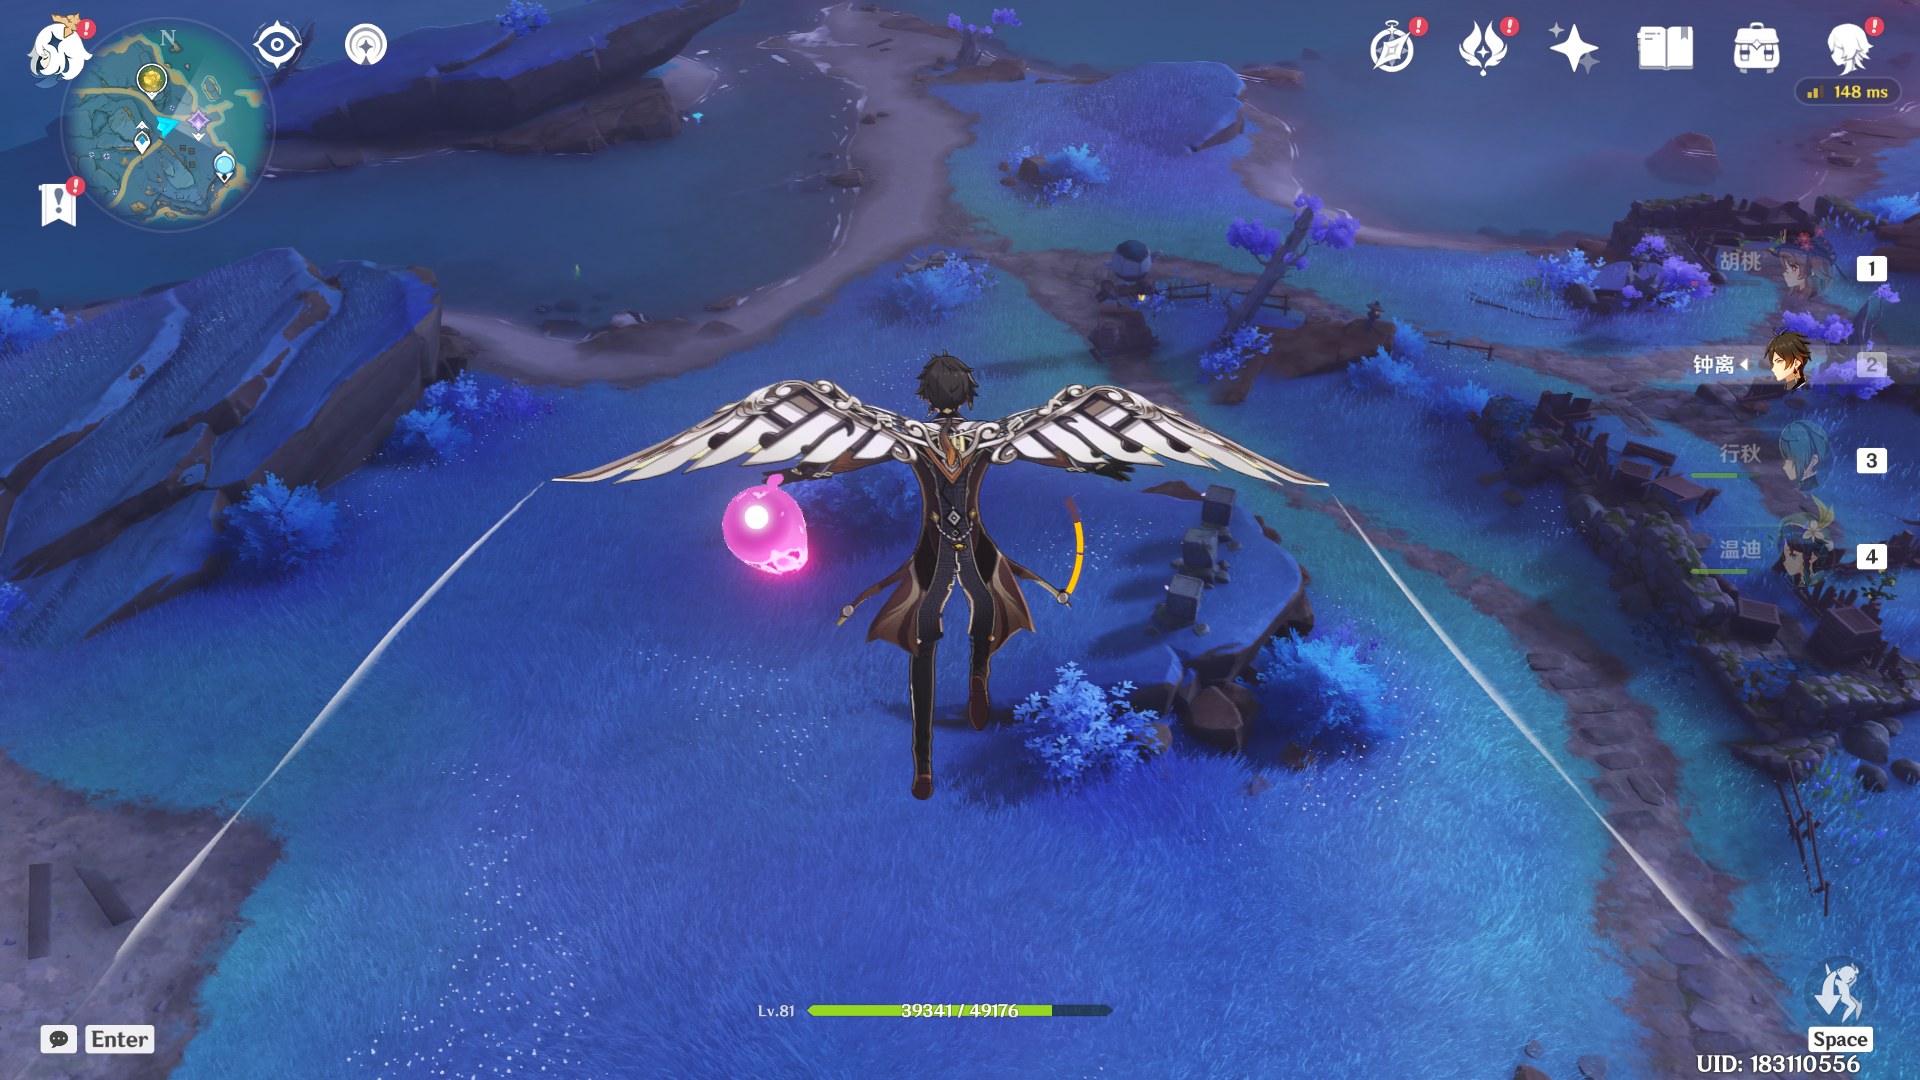character: (764, 295, 1175, 843)
